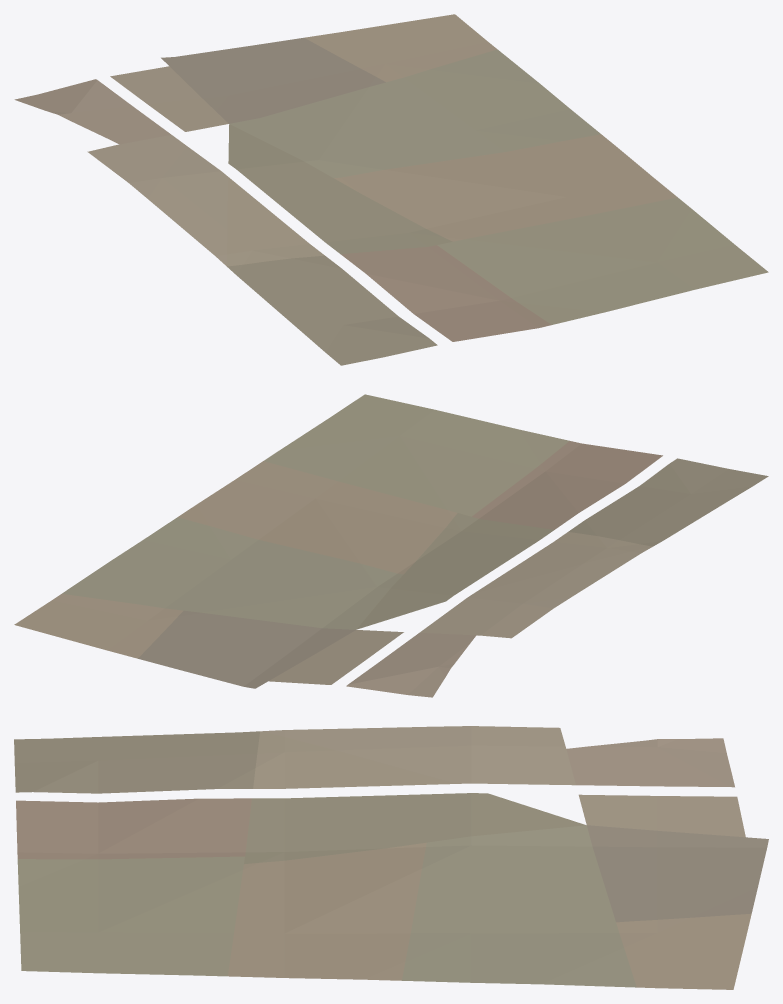
The model's file is farm_2_-3_soil.glb.
3 views of the same model, one above another, from view 1: azimuth 30°, elevation 25°; view 2: azimuth 150°, elevation 25°; view 3: azimuth 270°, elevation 25° (orthographic). The views are drawn at different scales.
Visible parts, largest first — view 1: geometry_0; view 2: geometry_0; view 3: geometry_0.
Part boxes in pixels (<box>): geometry_0: <box>14,14,768,365</box>; geometry_0: <box>14,394,768,697</box>; geometry_0: <box>14,726,768,989</box>.
Size of the model in its own units: 236 by 17.08 by 324.
